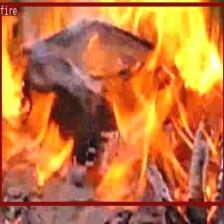fire: (0, 2, 224, 204)
